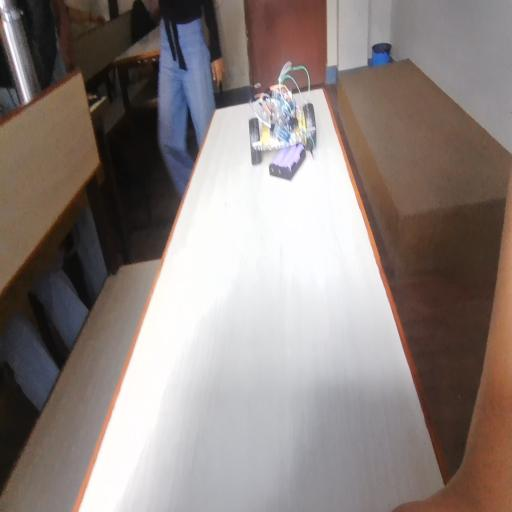car: (250, 74, 315, 189)
